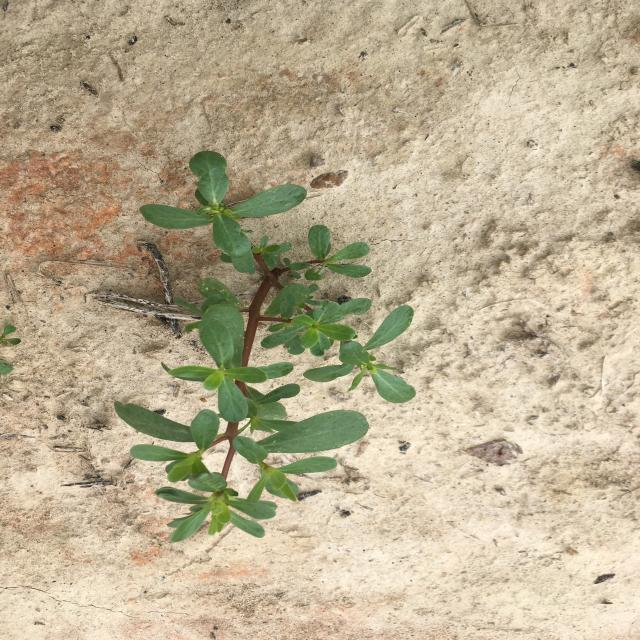Purslane: (114, 150, 416, 543)
